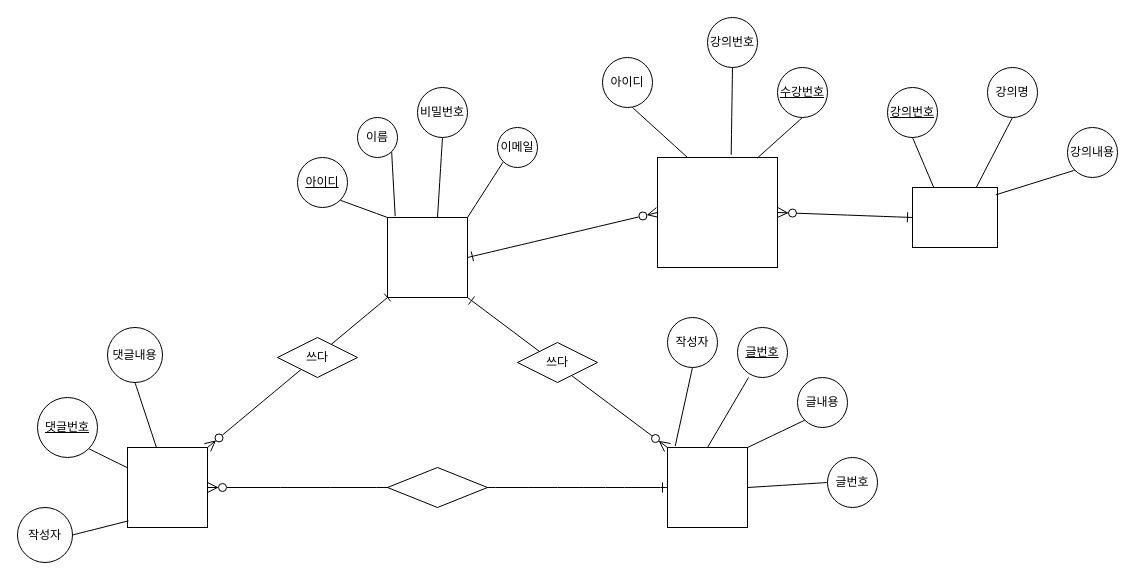
Some shapes in this 1135 by 580 pixel diagram are drawn without their labels. The box of each missing label's shape, as (x1, y1, x2, y2) in pixels:
강의: (912, 186, 998, 248)
게시글: (666, 446, 748, 528)
댓글: (126, 446, 208, 528)
수강신청 (Mapping Table): (656, 156, 778, 268)
포함여부: (386, 466, 488, 508)
회원: (386, 216, 468, 298)
